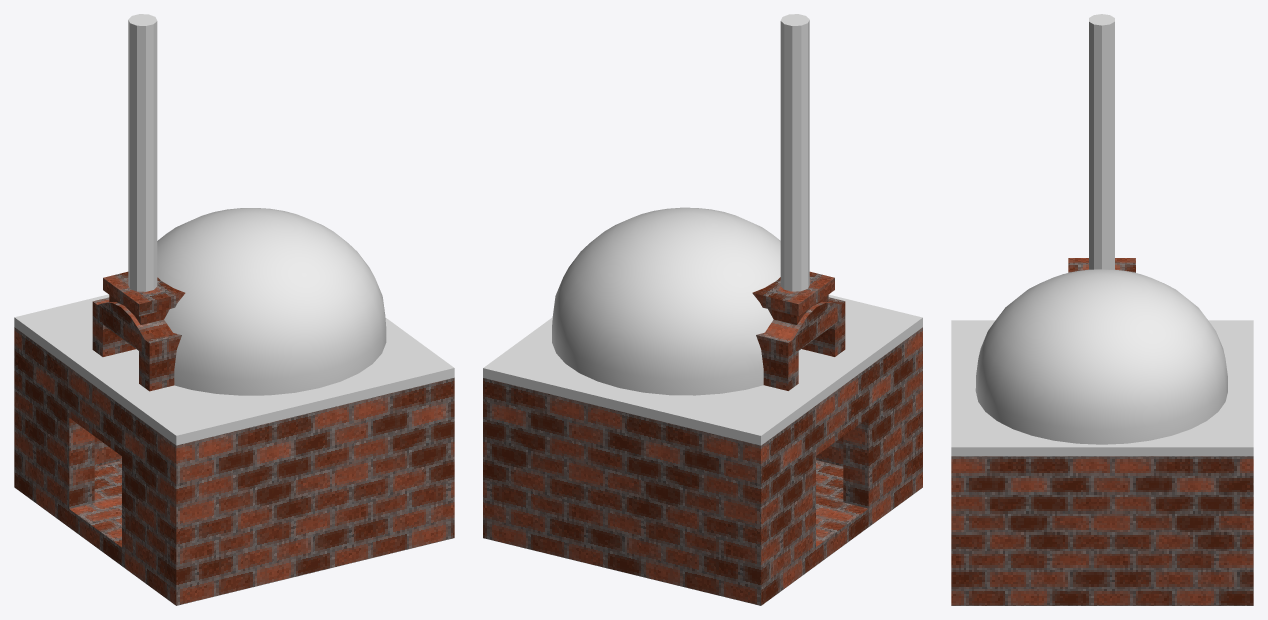
File: Oven.fbx
3 views of the same model, side by side, from view 1: azimuth 30°, elevation 25°; view 2: azimuth 150°, elevation 25°; view 3: azimuth 270°, elevation 25° (orthographic). The views are drawn at different scales.
Parts seen in each view (by area): view 1: Oven; view 2: Oven; view 3: Oven.
Boxes of the visible parts, x1,y1,x2,y2 form: Oven: [14, 14, 454, 605]; Oven: [483, 14, 922, 605]; Oven: [951, 14, 1253, 605].
Size of the model in its own units: 1.8 by 3.19 by 1.82.
